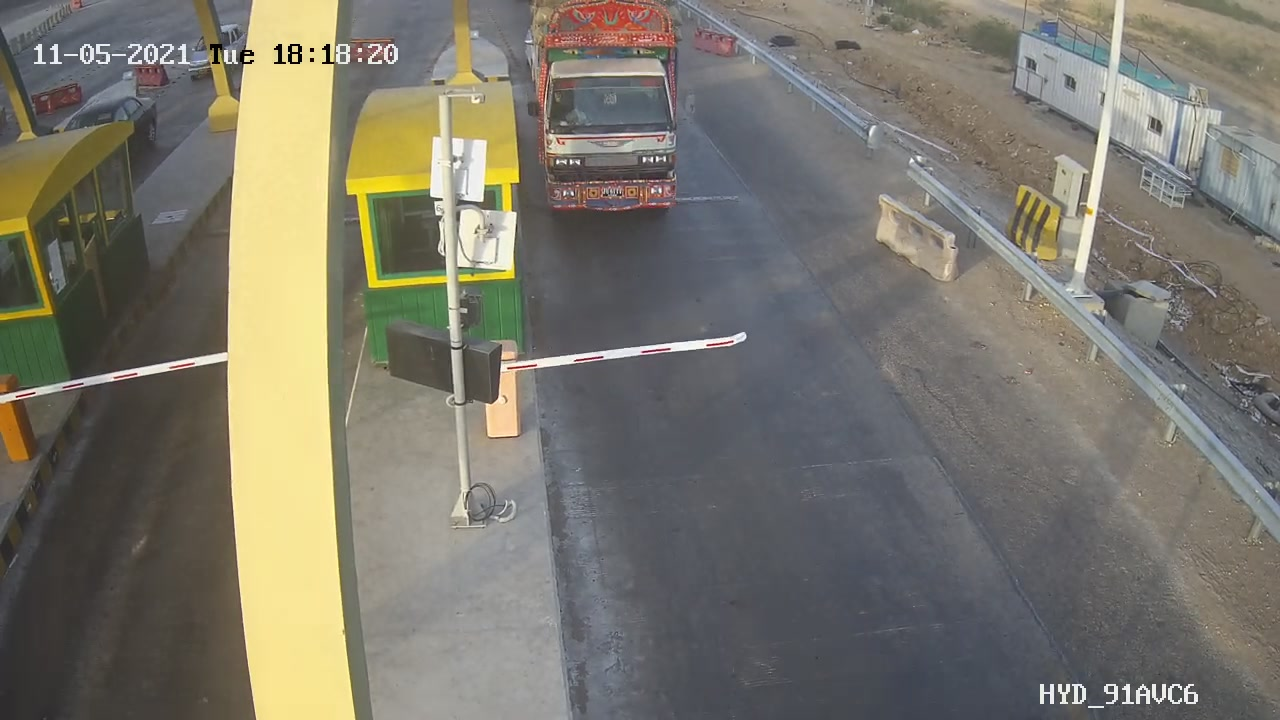F5: (501, 2, 728, 226)
